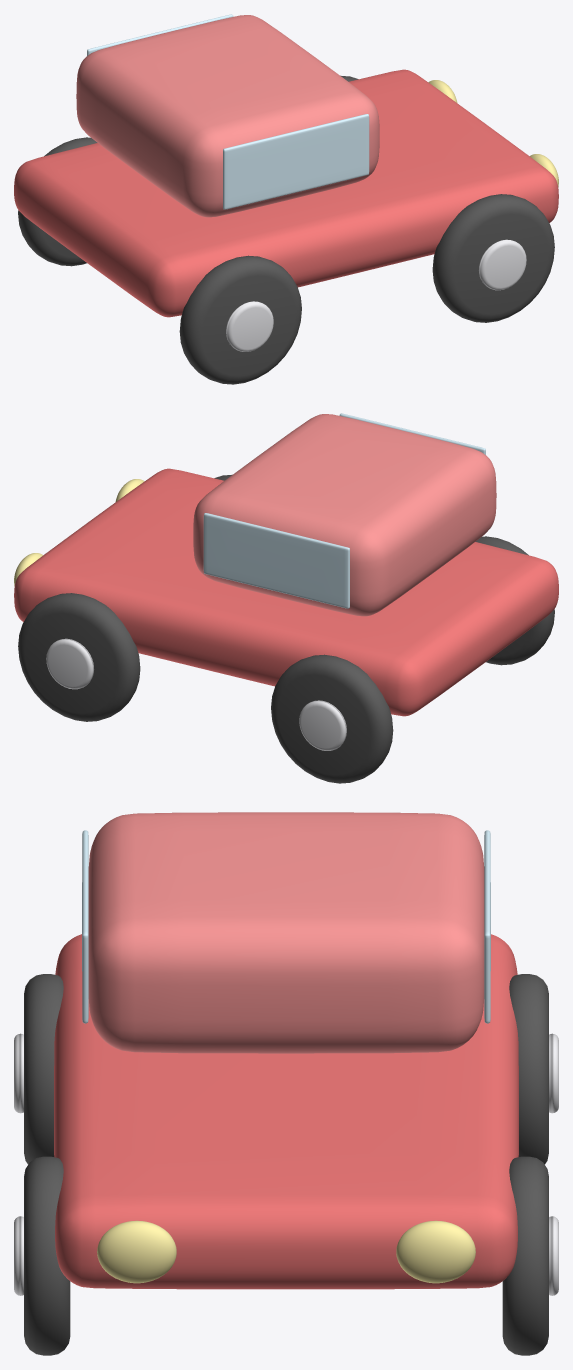
File: car.glb
The picture shows the model from 3 angles, top to bottom: view 1: azimuth 30°, elevation 25°; view 2: azimuth 150°, elevation 25°; view 3: azimuth 270°, elevation 25°; orthographic projection. The views are drawn at different scales.
Visible parts, largest first — view 1: Cube, Cube.001, Cylinder, Cylinder.004, Cube.003, Cylinder.005, Cylinder.001, Cylinder.002, Cube.002; view 2: Cube, Cube.001, Cylinder.002, Cylinder.006, Cube.002, Cylinder.007, Cylinder.003, Cylinder, Cube.003; view 3: Cube, Cube.001, Cylinder.004, Cylinder.006, Cylinder, Cylinder.002, Sphere, Sphere.001, Cube.002, Cube.003, Cylinder.005, Cylinder.007 (+2 smaller).
Part boxes in pixels (bbox=[...]): Cube: bbox=[14, 69, 558, 317]; Cube.001: bbox=[76, 15, 379, 217]; Cylinder: bbox=[179, 255, 301, 384]; Cylinder.004: bbox=[432, 194, 554, 322]; Cube.003: bbox=[223, 114, 369, 209]; Cylinder.005: bbox=[479, 239, 526, 290]; Cylinder.001: bbox=[226, 301, 273, 351]; Cylinder.002: bbox=[18, 137, 97, 266]; Cube.002: bbox=[87, 14, 233, 55]; Cube: bbox=[14, 468, 558, 716]; Cube.001: bbox=[193, 414, 496, 616]; Cylinder.002: bbox=[271, 654, 393, 783]; Cylinder.006: bbox=[18, 593, 140, 721]; Cube.002: bbox=[203, 513, 349, 608]; Cylinder.007: bbox=[46, 638, 93, 689]; Cylinder.003: bbox=[299, 700, 346, 750]; Cylinder: bbox=[475, 536, 554, 665]; Cube.003: bbox=[339, 413, 485, 454]; Cube: bbox=[54, 934, 518, 1289]; Cube.001: bbox=[88, 812, 484, 1053]; Cylinder.004: bbox=[24, 1156, 70, 1355]; Cylinder.006: bbox=[502, 1156, 548, 1355]; Cylinder: bbox=[24, 974, 63, 1164]; Cylinder.002: bbox=[509, 974, 548, 1164]; Sphere: bbox=[97, 1220, 176, 1283]; Sphere.001: bbox=[396, 1220, 475, 1283]; Cube.002: bbox=[484, 830, 490, 1023]; Cube.003: bbox=[82, 830, 88, 1023]; Cylinder.005: bbox=[14, 1216, 23, 1295]; Cylinder.007: bbox=[549, 1216, 558, 1295].
Bounding box in the file's own units: 2.16 × 1.15 × 1.64.
